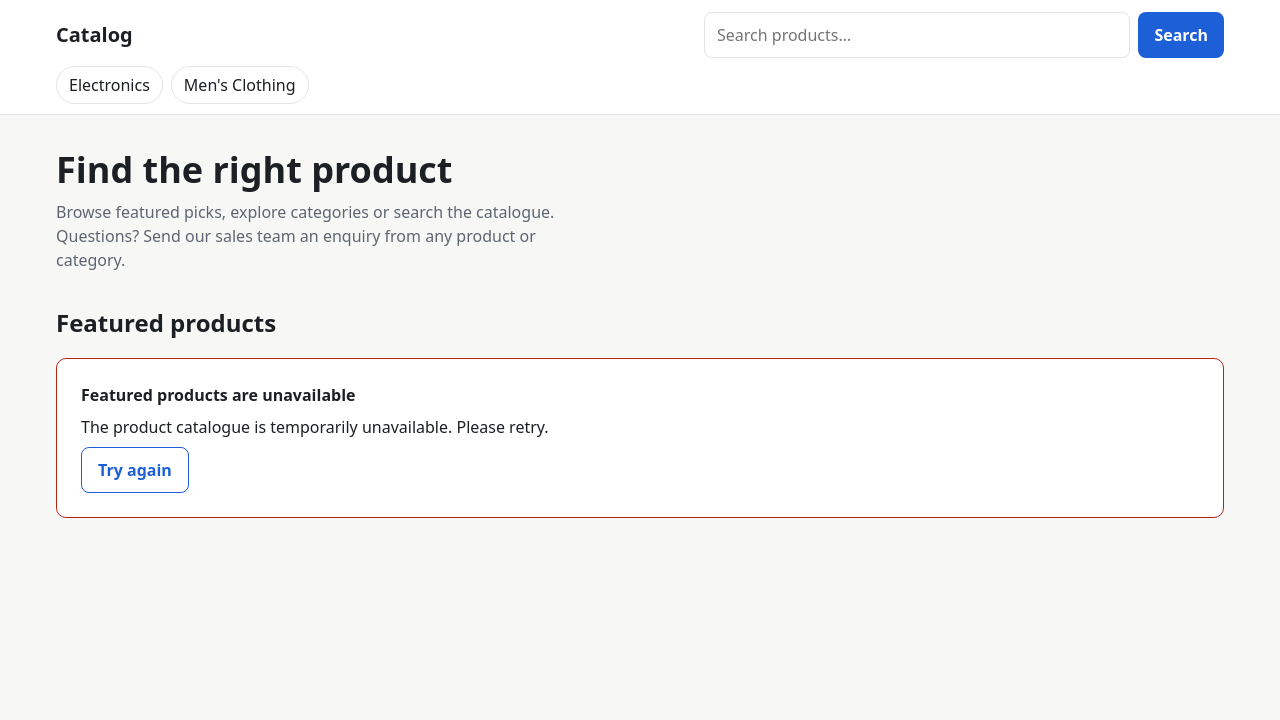
Home page › shows a meaningful error with retry when featured products fail
Check: the message shows "Featured products are unavailable", box x1=81 y1=384 x2=356 y2=406
Check: the message shows "temporarily unavailable", box x1=81 y1=416 x2=549 y2=438
Click the button "Try again". click: (135, 470)
box: x1=81 y1=447 x2=189 y2=493
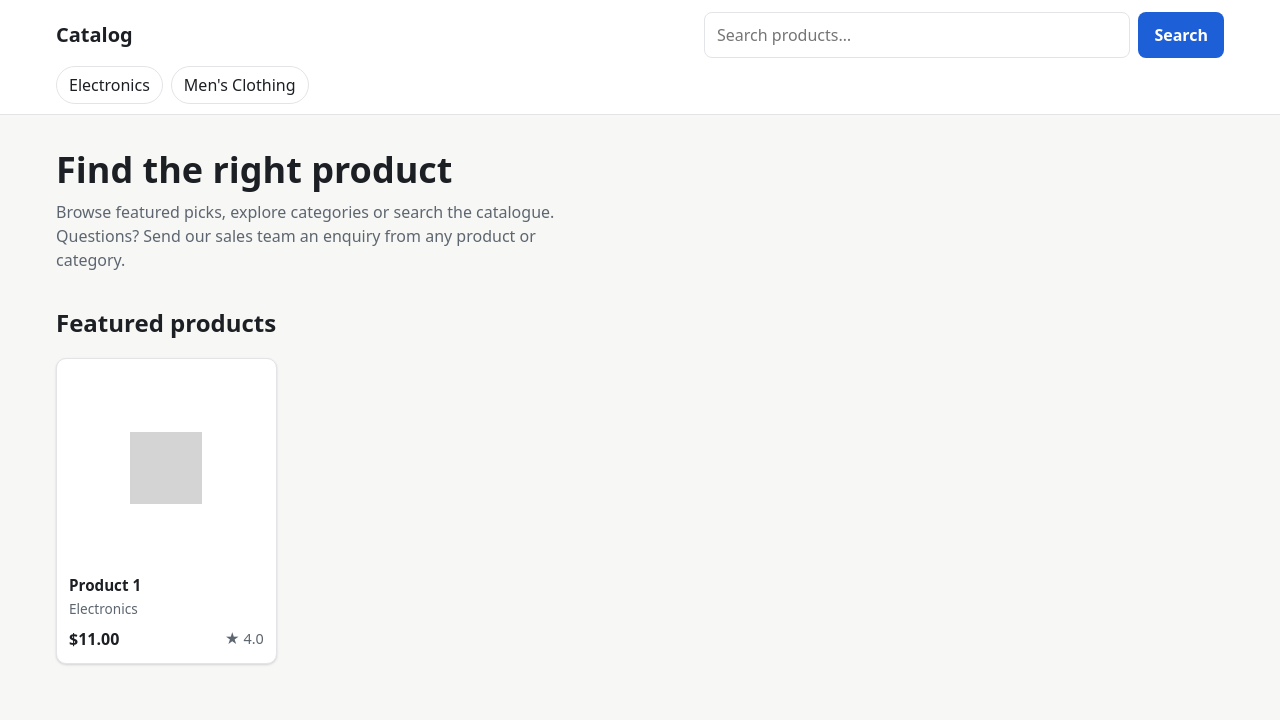
Check: the link "Product 1" is shown, box x1=69 y1=371 x2=264 y2=599
